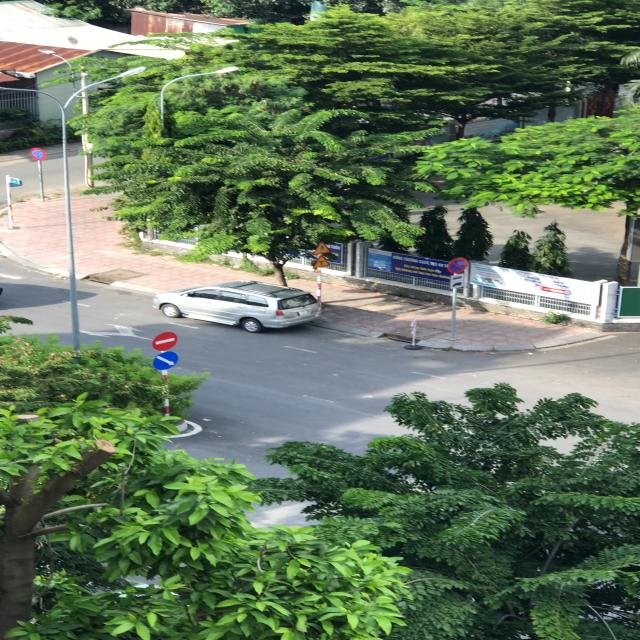Bien bao cam di nguoc chieu: (150, 331, 180, 351)
Bien bao cam dung xe va do xe: (444, 256, 474, 274)
Bien bao duong giao nhau: (311, 256, 335, 269)
Bien bao duong nguoi di bo cat ngang: (310, 241, 334, 254)
Bien bao huong phai di vong chuong ngai vat: (149, 350, 183, 370)
